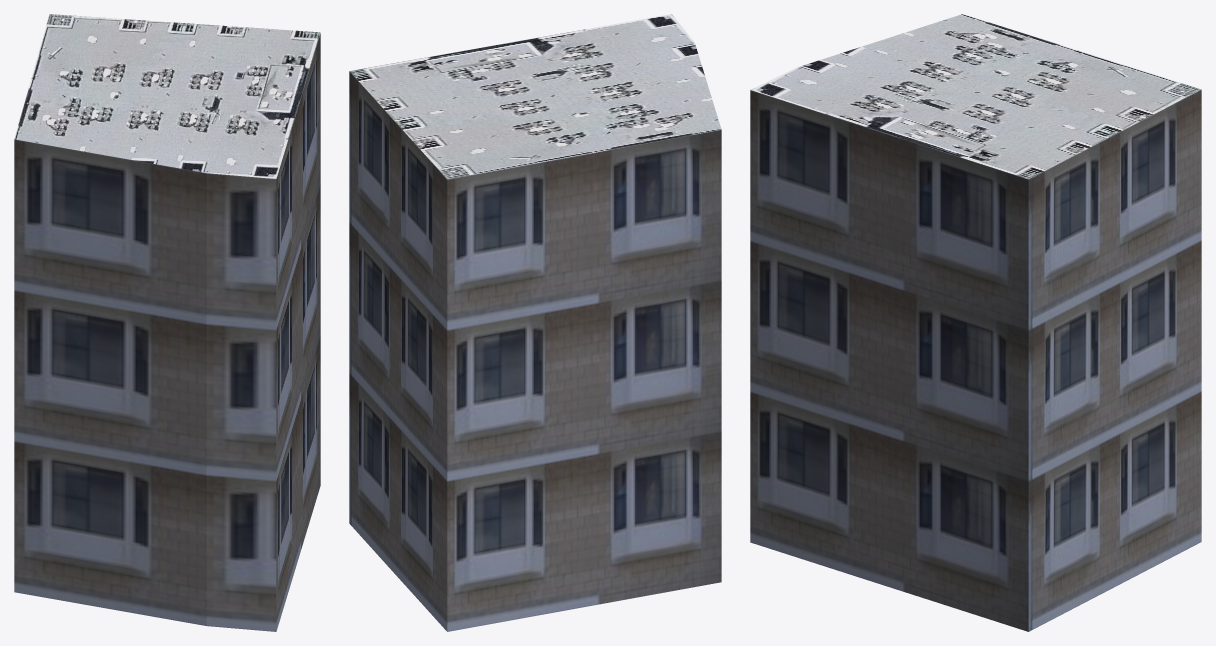
The model's file is ResTex__3364.fbx.
The picture shows the model from 3 angles, left to right: view 1: azimuth 30°, elevation 25°; view 2: azimuth 150°, elevation 25°; view 3: azimuth 270°, elevation 25°; orthographic projection.
Parts seen in each view (by area): view 1: CityEngineMaterial_3_m, CityEngineMaterial_2_m; view 2: CityEngineMaterial_3_m, CityEngineMaterial_2_m; view 3: CityEngineMaterial_3_m, CityEngineMaterial_2_m.
Part boxes in pixels (x1,y1,x2,y2): CityEngineMaterial_3_m: (14,33,320,631); CityEngineMaterial_2_m: (14,14,320,178); CityEngineMaterial_3_m: (349,71,721,631); CityEngineMaterial_2_m: (349,14,721,179); CityEngineMaterial_3_m: (750,89,1201,631); CityEngineMaterial_2_m: (751,14,1201,179).
Bounding box in the file's own units: 7.06 × 9 × 8.14.
Materials: 2 (2 with a texture image).
